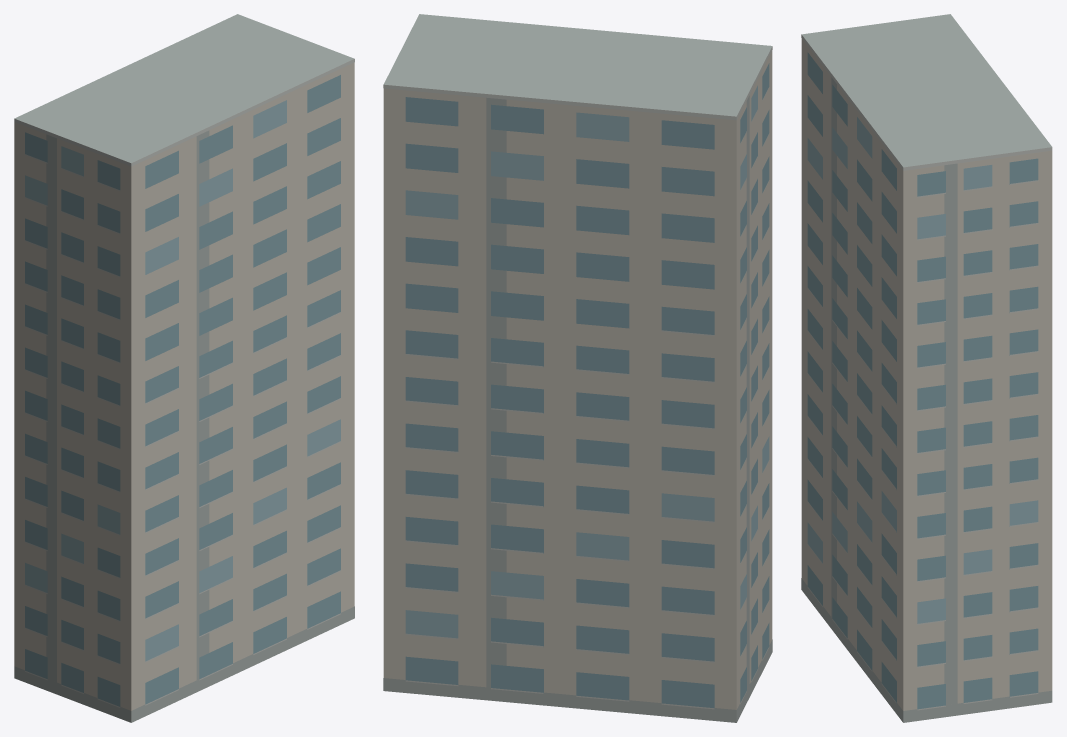
Rendered from residential-a178c983-ab88-4cac-b9a0-5ea500d18aaa.glb.
The picture shows the model from 3 angles, left to right: view 1: azimuth 30°, elevation 25°; view 2: azimuth 150°, elevation 25°; view 3: azimuth 270°, elevation 25°; orthographic projection. The views are drawn at different scales.
Visible parts, largest first — view 1: residential-a178c983-ab88-4cac-b9a0-5ea500d18aaa.tmp; view 2: residential-a178c983-ab88-4cac-b9a0-5ea500d18aaa.tmp; view 3: residential-a178c983-ab88-4cac-b9a0-5ea500d18aaa.tmp.
Part boxes in pixels (x1,y1,x2,y2): residential-a178c983-ab88-4cac-b9a0-5ea500d18aaa.tmp: (14,14,354,722); residential-a178c983-ab88-4cac-b9a0-5ea500d18aaa.tmp: (383,14,772,722); residential-a178c983-ab88-4cac-b9a0-5ea500d18aaa.tmp: (801,14,1052,722).
Bounding box in the file's own units: 23.11 × 39 × 15.97.
